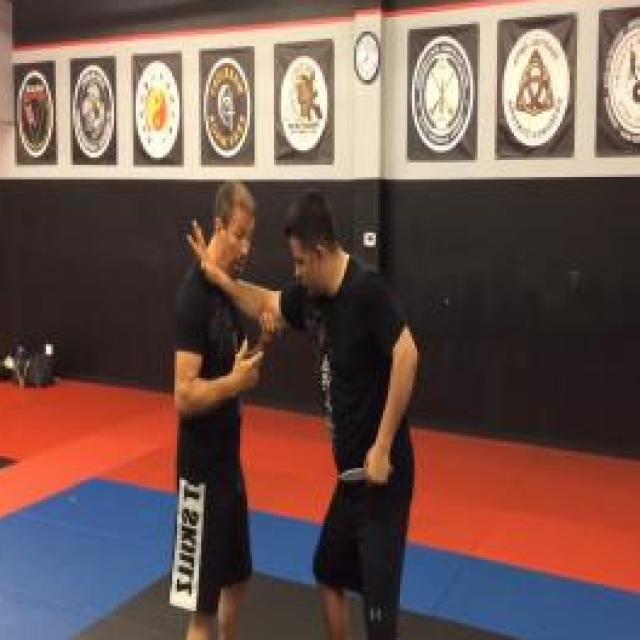knife: (336, 456, 395, 490)
